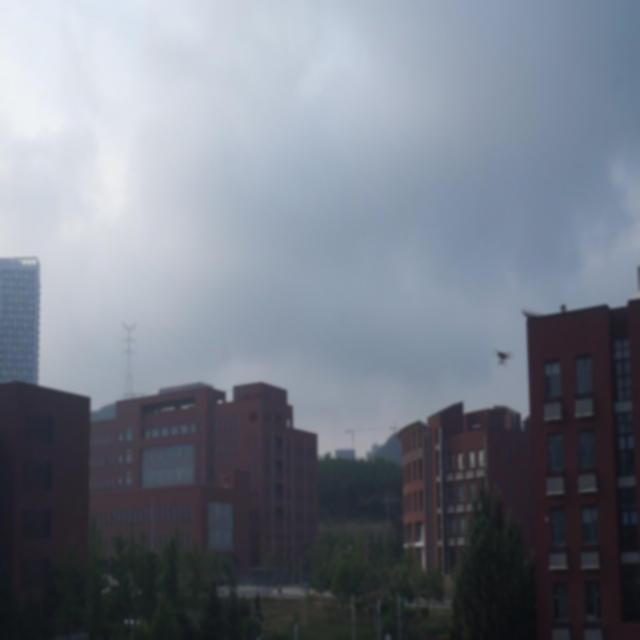UAV: (492, 349, 514, 367)
